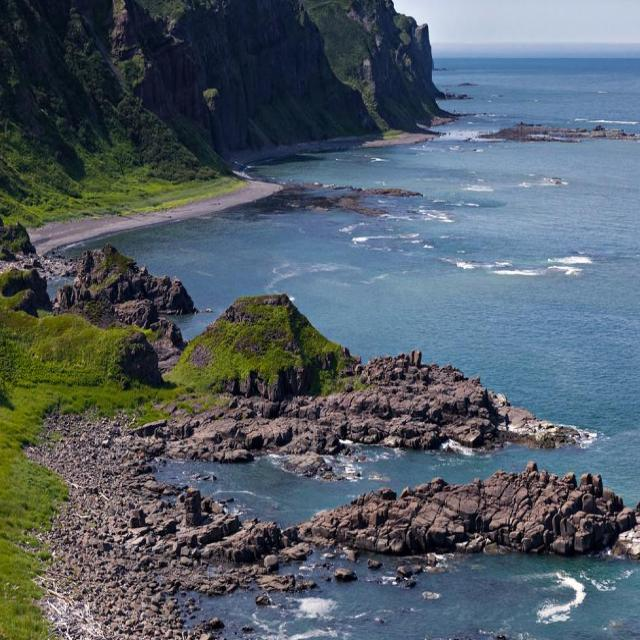reef: (161, 283, 575, 486), (320, 446, 640, 592)
